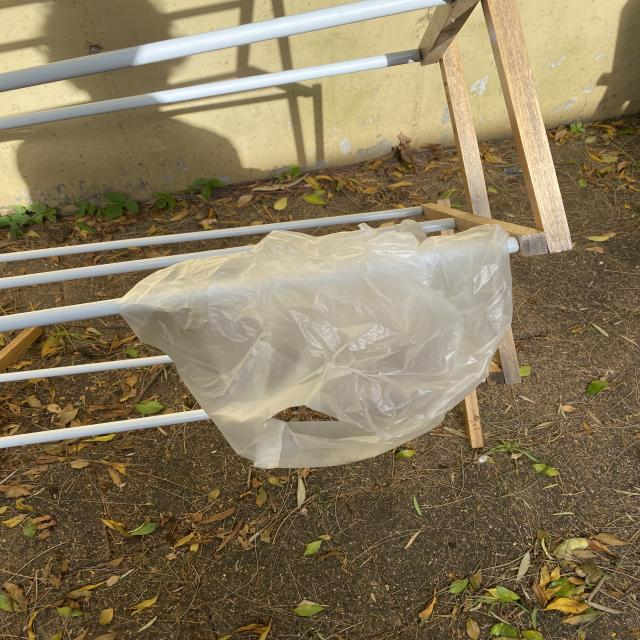bag: (118, 220, 513, 470)
